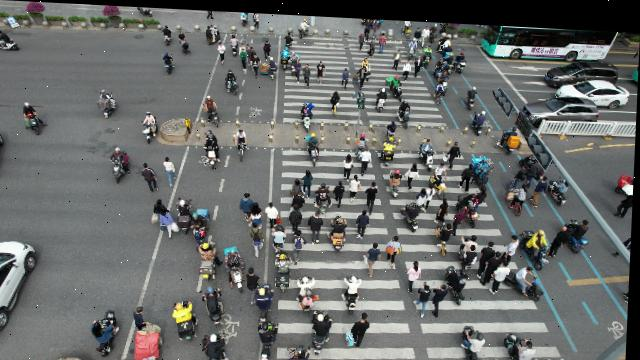non-motor-vehicle: (512, 261, 548, 295), (171, 299, 201, 339), (505, 326, 540, 360), (521, 224, 552, 260), (197, 238, 224, 279), (95, 307, 118, 355), (563, 212, 593, 247), (259, 315, 282, 360), (463, 321, 489, 360), (314, 307, 336, 351), (298, 271, 322, 310), (345, 271, 368, 310), (449, 255, 469, 299), (226, 243, 249, 281), (23, 102, 49, 135), (200, 127, 222, 166), (206, 285, 228, 322), (460, 228, 482, 265), (431, 219, 456, 251), (506, 178, 530, 211), (175, 196, 196, 232), (257, 281, 279, 315), (111, 148, 132, 183), (194, 206, 215, 241), (201, 93, 224, 124), (206, 329, 228, 360), (499, 121, 521, 151), (275, 249, 293, 285), (333, 212, 350, 249), (431, 158, 450, 190), (474, 150, 492, 182), (97, 88, 116, 117), (141, 110, 158, 142), (403, 198, 422, 226), (551, 173, 571, 199), (236, 126, 251, 160), (316, 180, 334, 207), (463, 190, 480, 217), (306, 130, 321, 160), (421, 133, 435, 162), (274, 220, 289, 247), (0, 30, 19, 51), (293, 342, 315, 360), (382, 134, 396, 160), (303, 99, 316, 127), (389, 166, 402, 193), (400, 96, 414, 121), (226, 68, 241, 91), (474, 108, 489, 131), (375, 86, 389, 109), (206, 21, 221, 42), (331, 87, 343, 113), (266, 54, 280, 76), (455, 45, 467, 69), (437, 78, 450, 100), (391, 72, 403, 95), (162, 51, 174, 73), (359, 130, 370, 152), (467, 84, 478, 105), (280, 45, 291, 66), (424, 41, 434, 64), (229, 33, 239, 54), (300, 17, 311, 36), (401, 18, 412, 35), (427, 19, 438, 36), (444, 49, 455, 66), (524, 147, 537, 161), (387, 117, 397, 135), (164, 23, 172, 45), (361, 52, 372, 68), (439, 65, 451, 79), (439, 31, 452, 43), (136, 6, 154, 14), (291, 49, 297, 73), (434, 55, 443, 71), (239, 10, 249, 24), (442, 38, 452, 52), (285, 31, 293, 46)
person: (136, 305, 164, 360), (348, 311, 374, 347), (368, 240, 386, 272), (407, 254, 423, 290), (618, 179, 634, 213), (388, 232, 404, 265), (311, 208, 326, 243), (160, 208, 179, 235), (139, 161, 157, 189), (248, 265, 261, 301), (241, 190, 255, 223), (435, 281, 449, 314), (251, 51, 270, 75), (533, 170, 548, 200), (162, 155, 178, 183), (293, 228, 306, 261), (252, 221, 265, 253), (496, 258, 510, 286), (420, 279, 432, 311), (554, 220, 566, 252), (449, 138, 463, 164), (357, 206, 371, 232), (460, 158, 474, 184), (291, 201, 304, 228), (179, 29, 193, 54), (267, 201, 283, 222), (489, 246, 505, 267), (506, 231, 520, 255), (343, 151, 356, 176), (155, 197, 173, 215), (361, 144, 373, 170), (406, 164, 421, 184), (426, 178, 436, 206), (351, 171, 361, 198), (519, 161, 533, 180), (335, 178, 347, 200), (251, 199, 263, 221), (482, 237, 494, 259), (367, 180, 376, 209), (304, 167, 314, 193), (293, 58, 303, 81), (416, 183, 428, 202), (439, 194, 448, 219), (358, 63, 368, 85), (391, 44, 401, 66), (239, 47, 248, 69), (316, 58, 324, 82), (414, 51, 422, 75), (264, 38, 274, 56), (457, 204, 466, 224), (218, 41, 227, 61), (363, 15, 372, 35), (343, 65, 351, 86), (304, 62, 312, 83), (294, 177, 304, 192), (252, 10, 262, 25), (405, 58, 412, 78), (367, 35, 375, 52), (359, 28, 366, 47), (535, 156, 543, 172), (480, 183, 488, 199), (295, 189, 306, 200), (422, 23, 429, 40), (380, 31, 386, 50), (415, 23, 420, 43), (411, 36, 419, 48), (373, 16, 378, 35), (249, 45, 256, 58), (207, 8, 214, 17), (240, 41, 245, 49), (247, 42, 251, 51)
